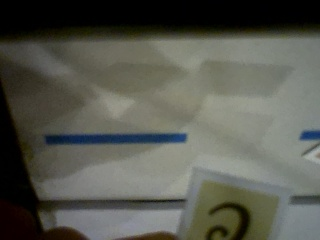C: (184, 182, 281, 240)
